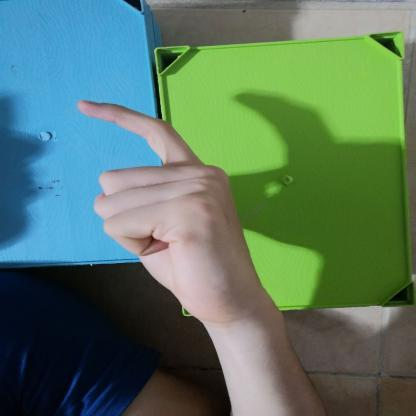RAA: (59, 89, 284, 331)
